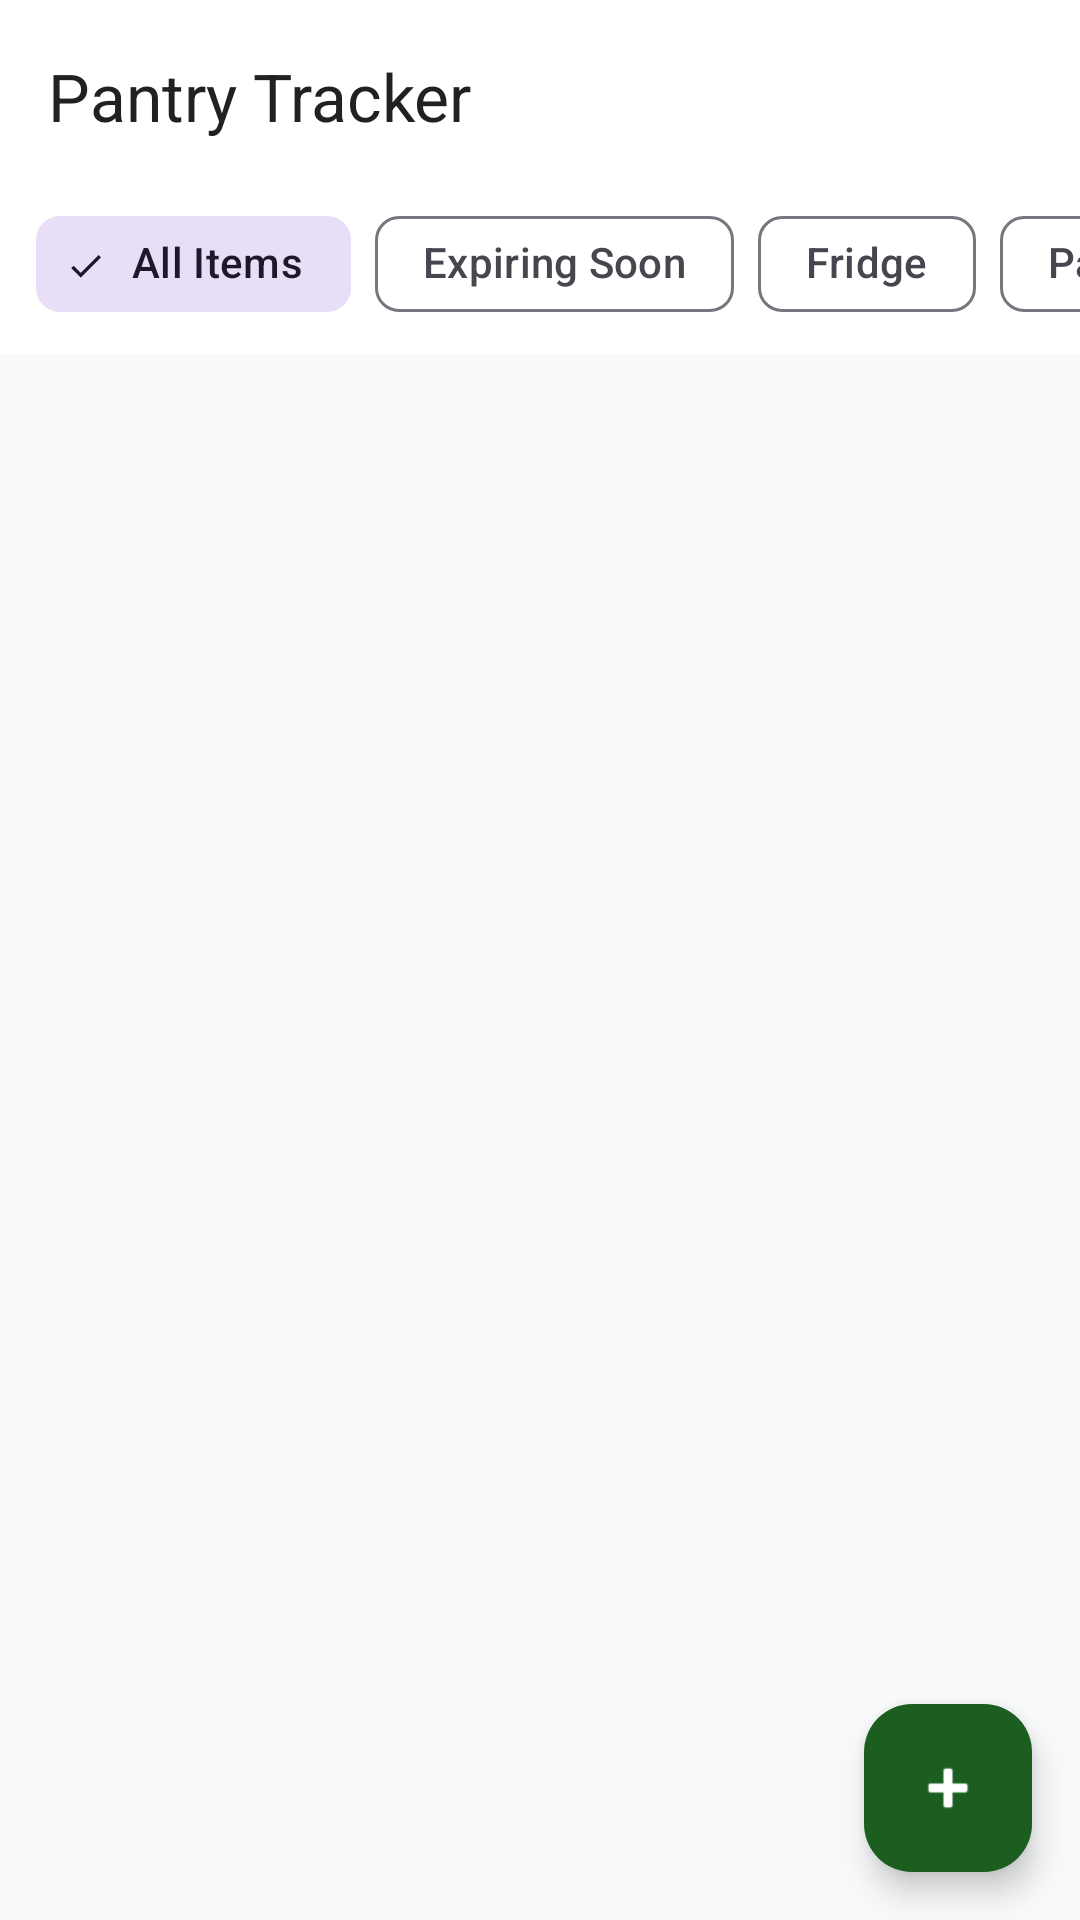

Icon click points for this 1080px x 1920px phone screenshot, format [x,y]:
Add pantry item: [948,1788]
